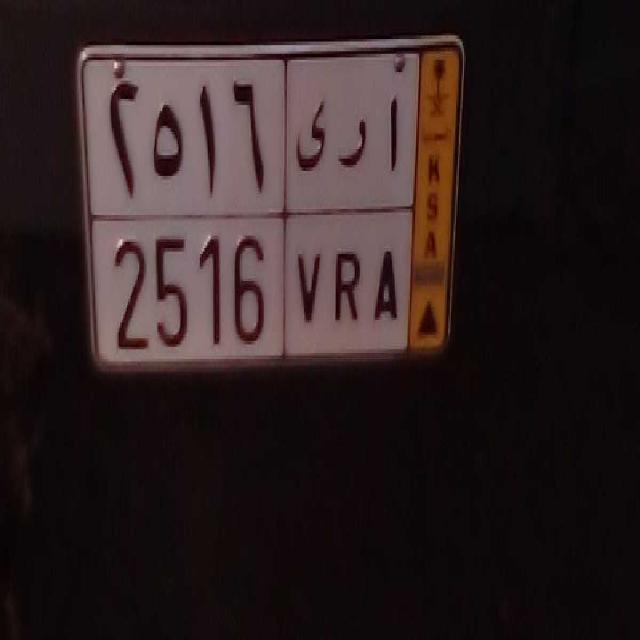license_plate: (88, 212, 412, 366)
